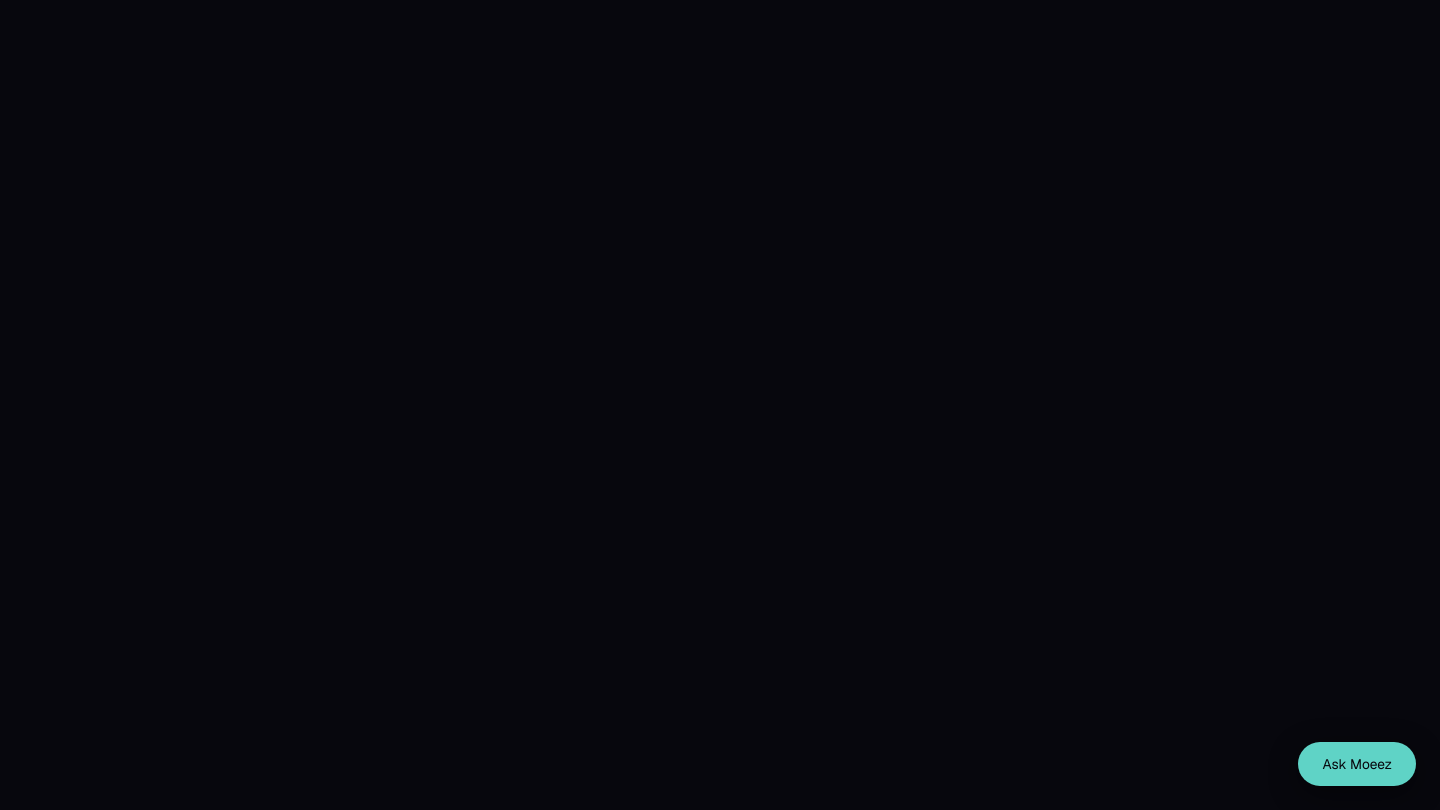
ChatDock › clears the input once the question is sent
Click the button "Ask Moeez" at (1357,764), box [1298,742,1416,786]
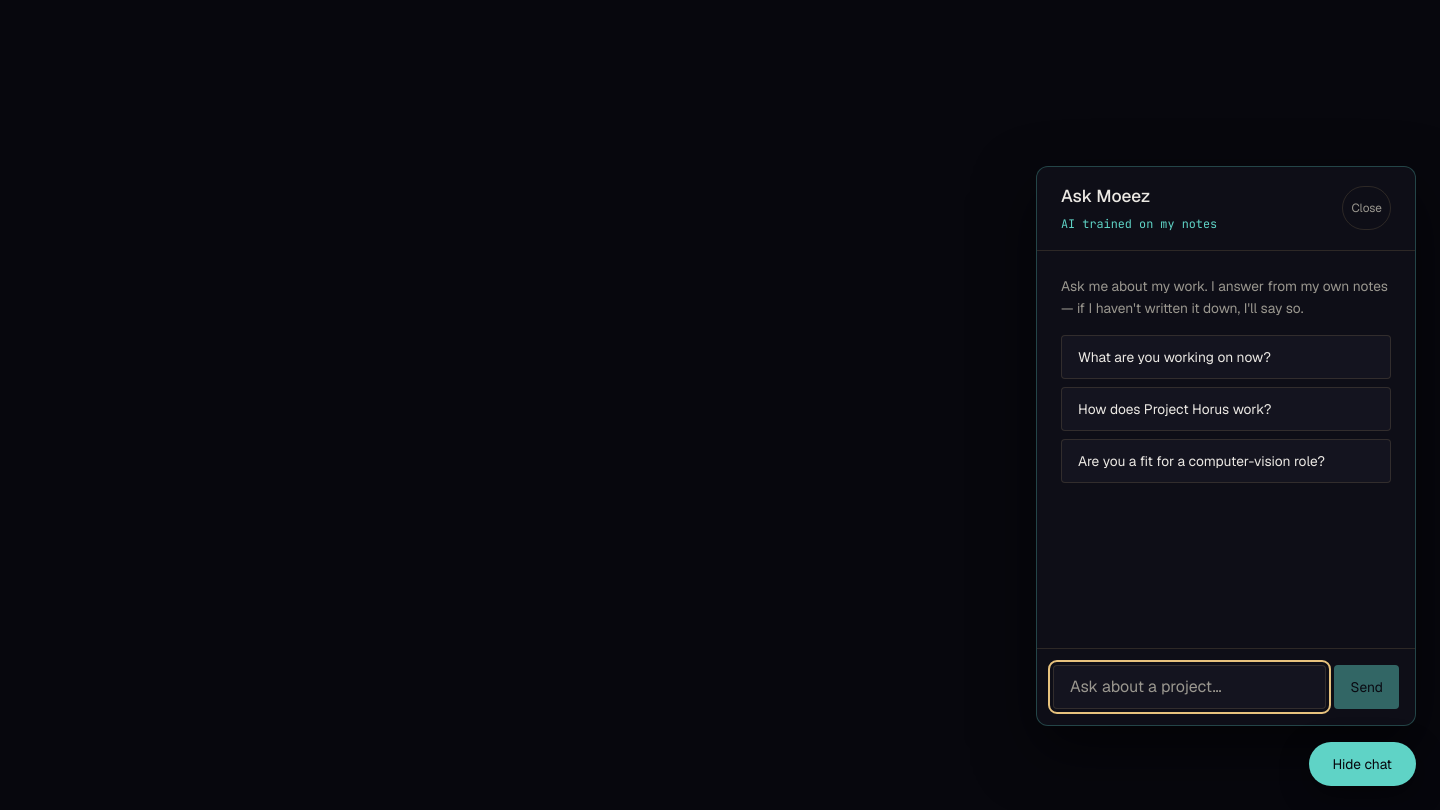
Type "anything" into the field at (1190,687), box [1053,665,1326,709]
Then press Enter
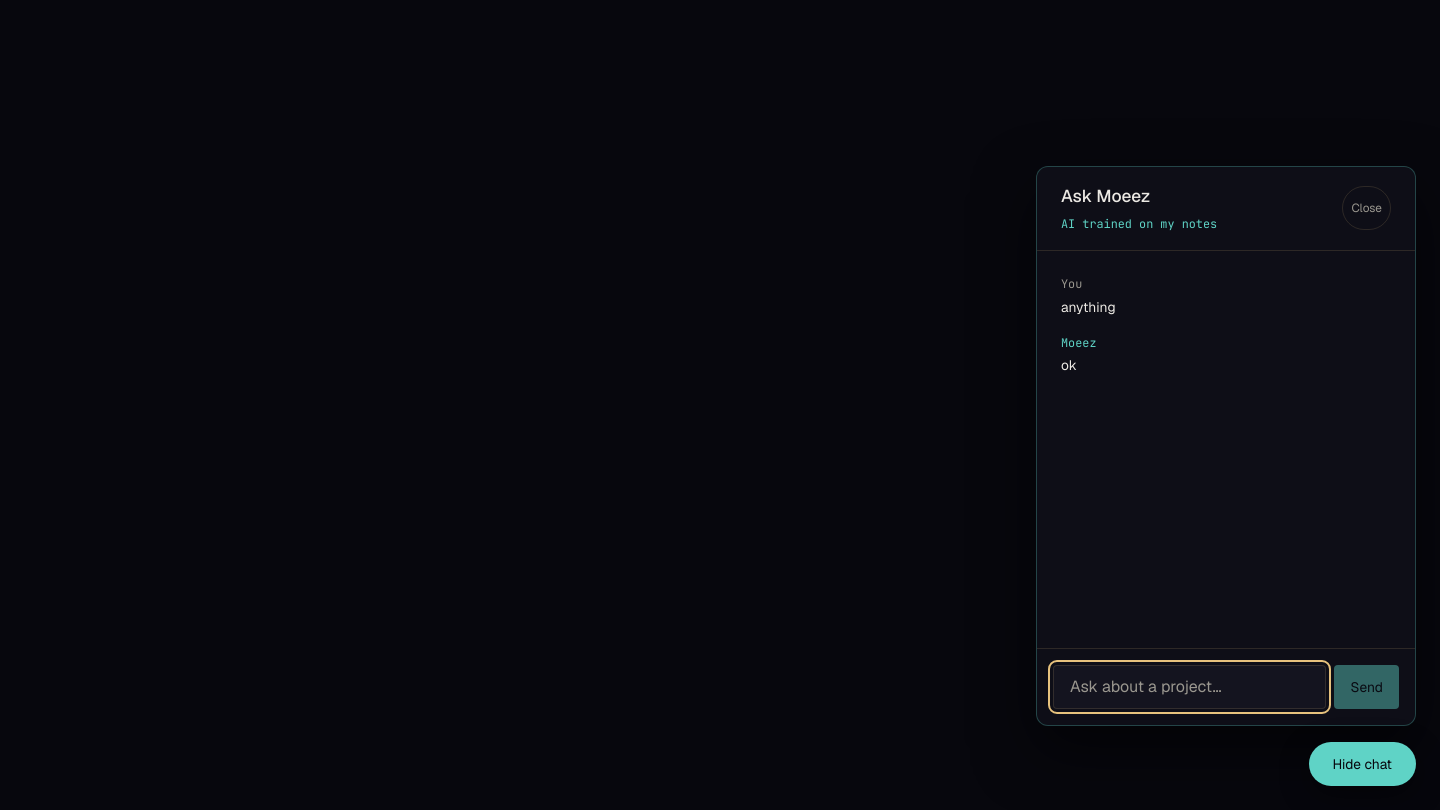
Expected: the field is empty, [1053,665,1326,709]
